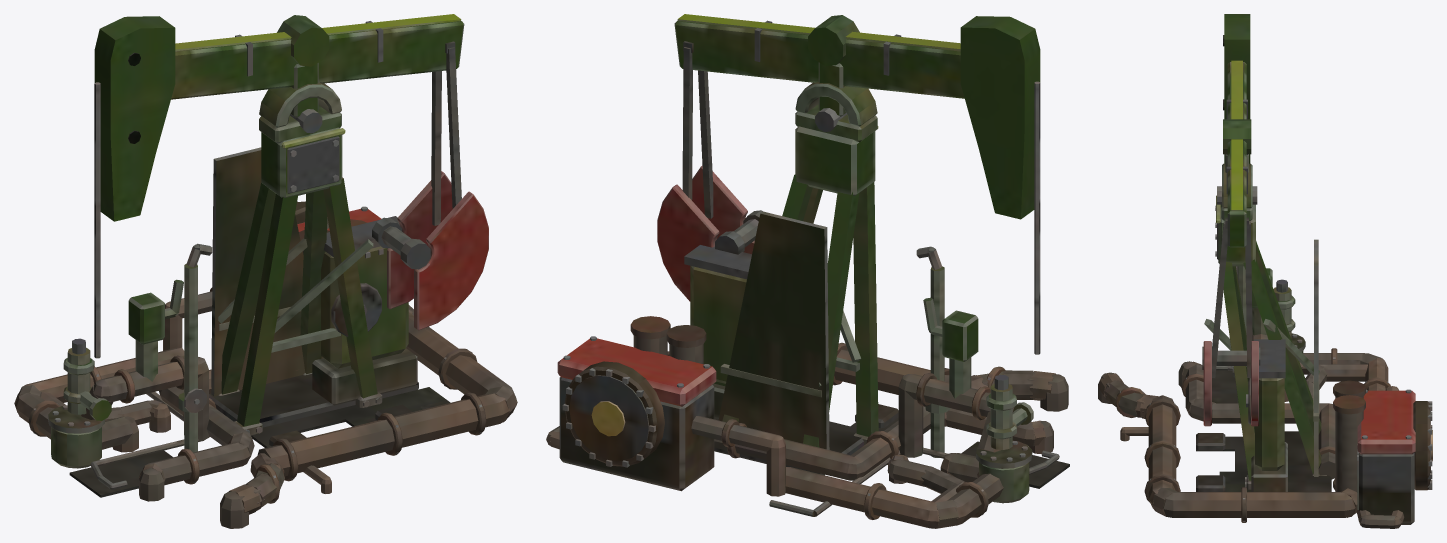
Rendered from pumpjack.glb.
3 renders of one model, left to right at view 1: azimuth 30°, elevation 25°; view 2: azimuth 150°, elevation 25°; view 3: azimuth 270°, elevation 25°, orthographic. The views are drawn at different scales.
Parts seen in each view (by area): view 1: anim_upright_still, anim_upright_rock_beam, body, anim_upright_spin_crank; view 2: anim_upright_still, body, anim_upright_rock_beam, anim_upright_spin_crank; view 3: body, anim_upright_still, anim_upright_rock_beam, anim_upright_spin_crank.
Part boxes in pixels (x1=…): anim_upright_still: x1=48, y1=41, x2=461, y2=497; anim_upright_rock_beam: x1=94, y1=14, x2=464, y2=221; body: x1=14, y1=201, x2=517, y2=528; anim_upright_spin_crank: x1=372, y1=171, x2=488, y2=330; anim_upright_still: x1=682, y1=41, x2=1069, y2=503; body: x1=546, y1=316, x2=1068, y2=528; anim_upright_rock_beam: x1=674, y1=14, x2=1040, y2=219; anim_upright_spin_crank: x1=657, y1=165, x2=762, y2=301; body: x1=1098, y1=348, x2=1432, y2=528; anim_upright_still: x1=1196, y1=163, x2=1331, y2=491; anim_upright_rock_beam: x1=1223, y1=14, x2=1251, y2=247; anim_upright_spin_crank: x1=1202, y1=341, x2=1260, y2=426.
Size of the model in its own units: 3.35 by 3.45 by 2.83.
1 material, 1 textured.
